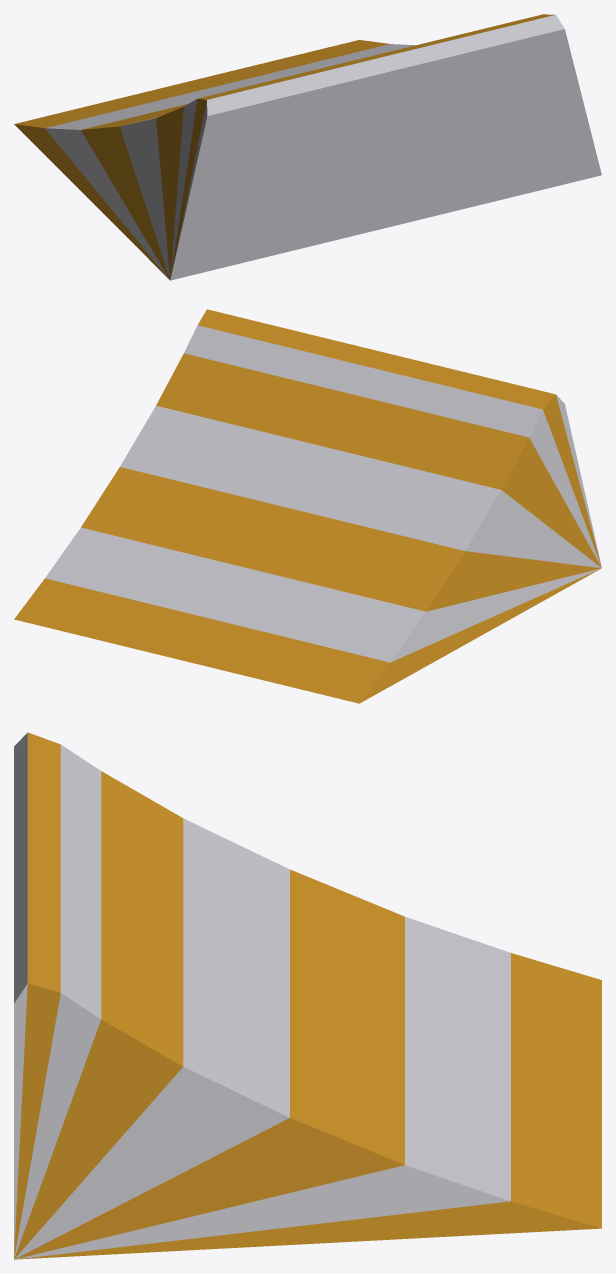
The model's file is ramp.fbx.
3 views of the same model, one above another, from view 1: azimuth 30°, elevation 25°; view 2: azimuth 150°, elevation 25°; view 3: azimuth 270°, elevation 25° (orthographic). The views are drawn at different scales.
Visible parts, largest first — view 1: Cube; view 2: Cube; view 3: Cube.
Boxes of the visible parts, box(x1,y1,x2,y2) form: Cube: box(14, 14, 601, 280); Cube: box(14, 309, 601, 703); Cube: box(14, 732, 601, 1259).
Bounding box in the file's own units: 250 × 92.51 × 200.
